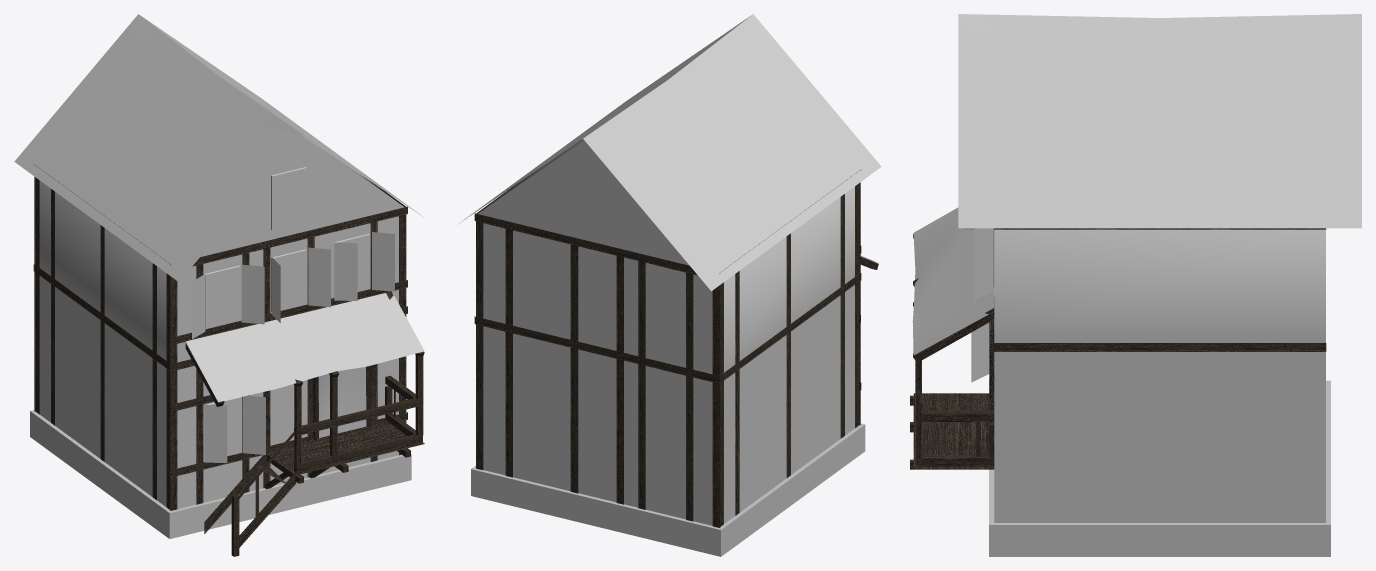
The model's file is house2_LOD2.fbx.
The picture shows the model from 3 angles, left to right: view 1: azimuth 30°, elevation 25°; view 2: azimuth 150°, elevation 25°; view 3: azimuth 270°, elevation 25°; orthographic projection. The views are drawn at different scales.
Visible parts, largest first — view 1: Mesh Object; view 2: Mesh Object; view 3: Mesh Object.
Boxes of the visible parts, x1,y1,x2,y2 form: Mesh Object: (14, 14, 424, 556); Mesh Object: (459, 14, 881, 556); Mesh Object: (910, 14, 1361, 556).
Size of the model in its own units: 8.2 by 12.29 by 10.57.
